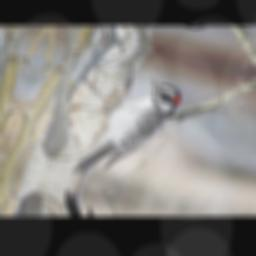Woodpecker: (69, 68, 185, 193)
